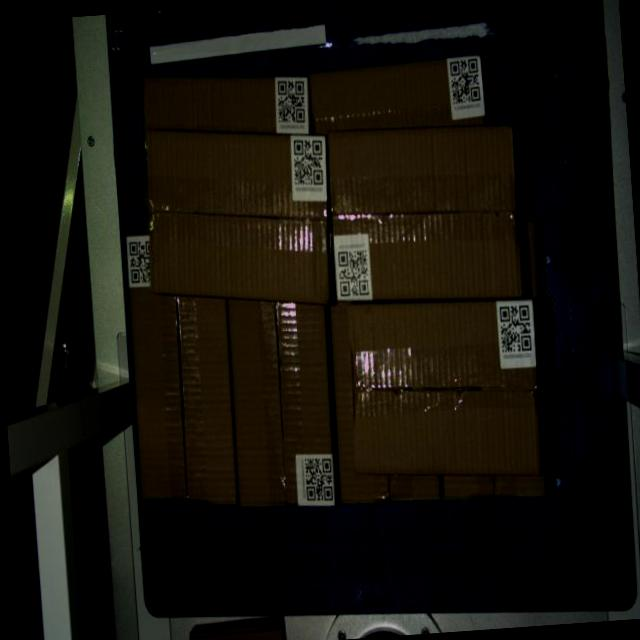box: (344, 290, 544, 488), (139, 118, 336, 315), (323, 119, 524, 308)
